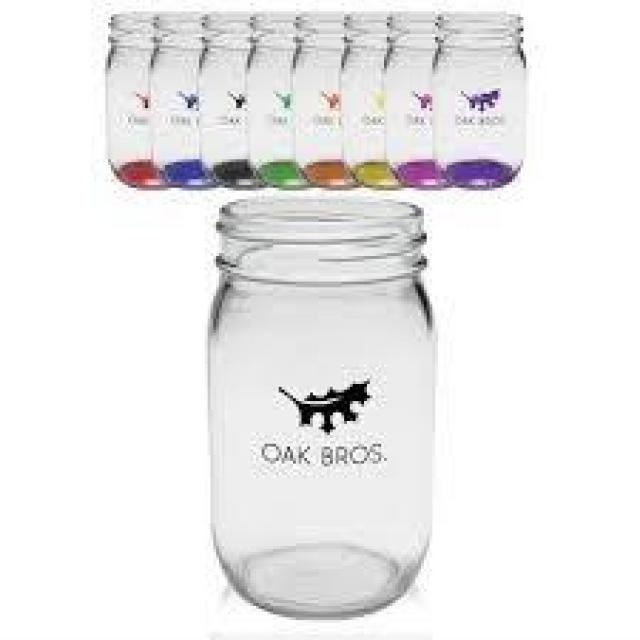non-organic waste: (196, 194, 447, 620), (430, 12, 526, 190)
